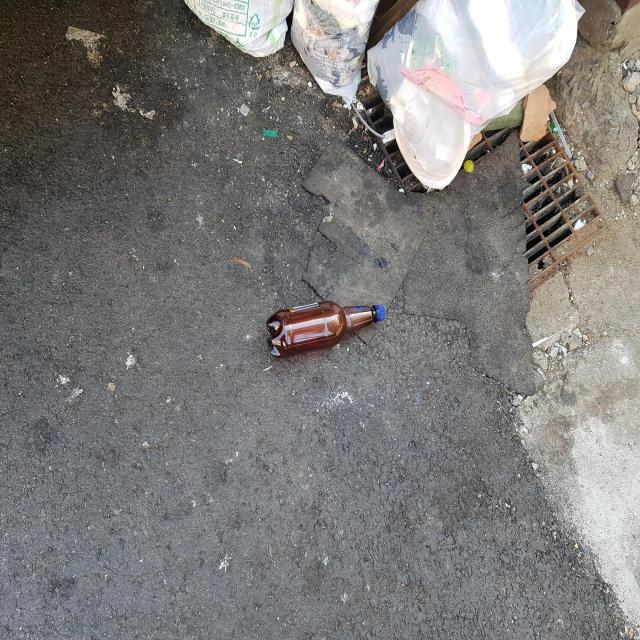plastic: (266, 300, 386, 358)
